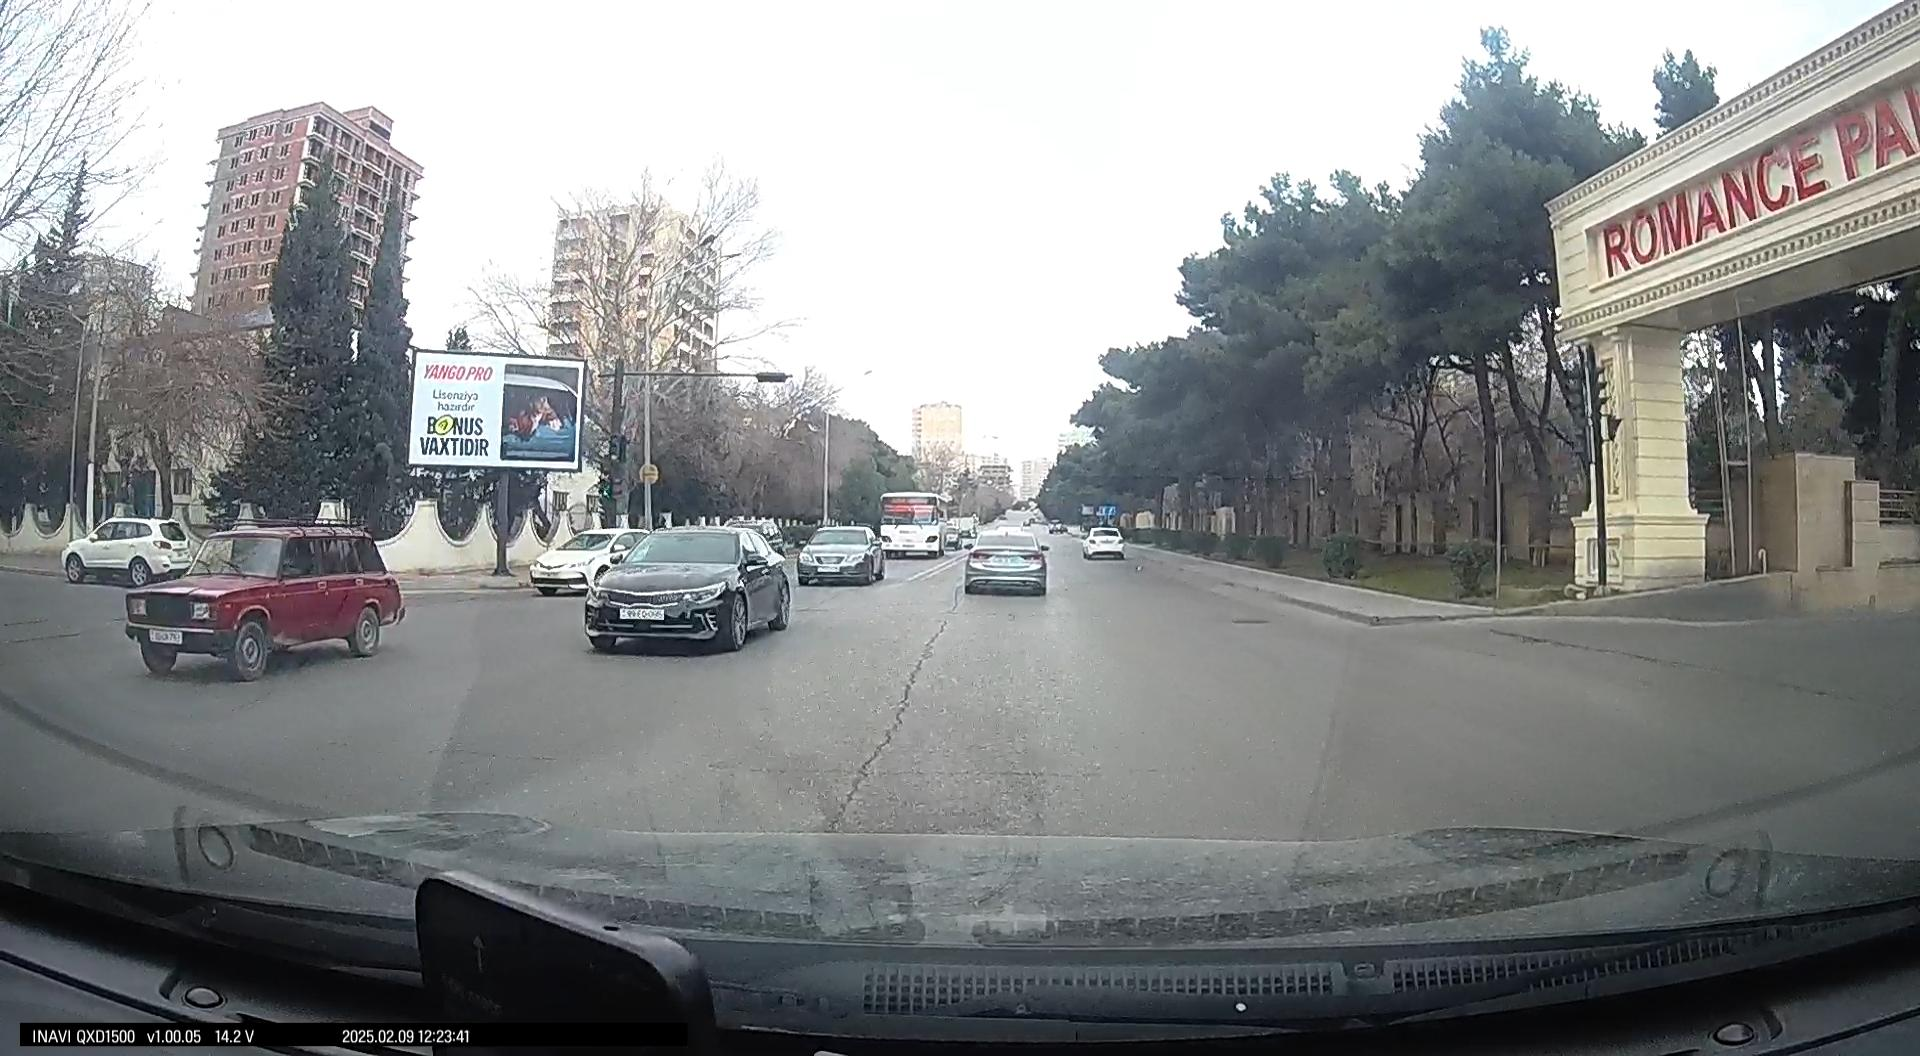banner: (408, 348, 588, 471)
